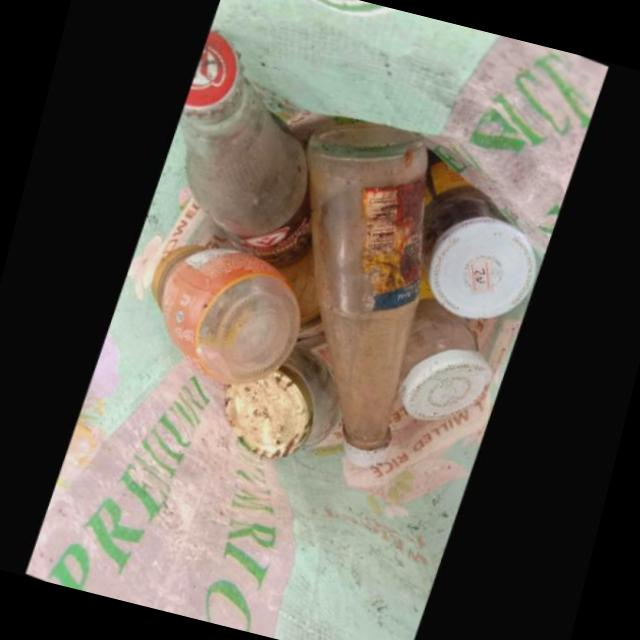chai_thuy_tinh: (307, 117, 430, 464), (179, 50, 313, 268), (154, 248, 302, 384), (425, 156, 544, 317), (222, 330, 341, 457), (400, 299, 495, 418)
